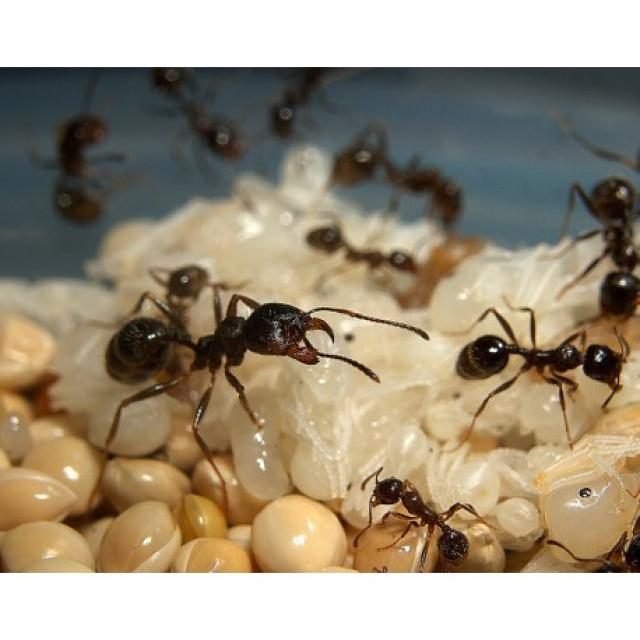Minor: (445, 296, 632, 441), (355, 466, 496, 570)
Soldier: (91, 296, 428, 509)
